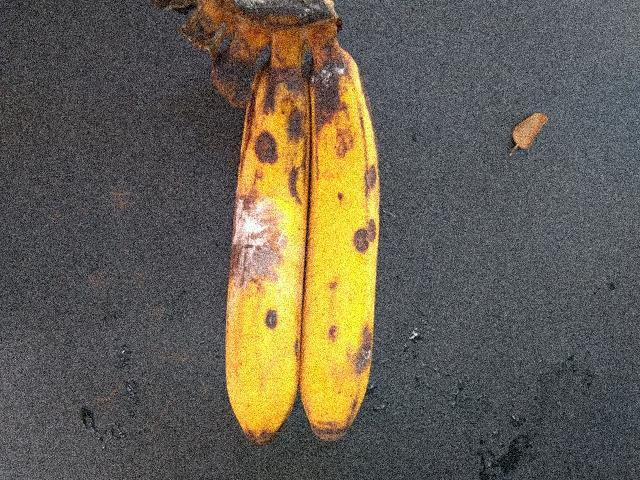ripe: (300, 47, 393, 455)
rotten: (203, 56, 313, 461)
